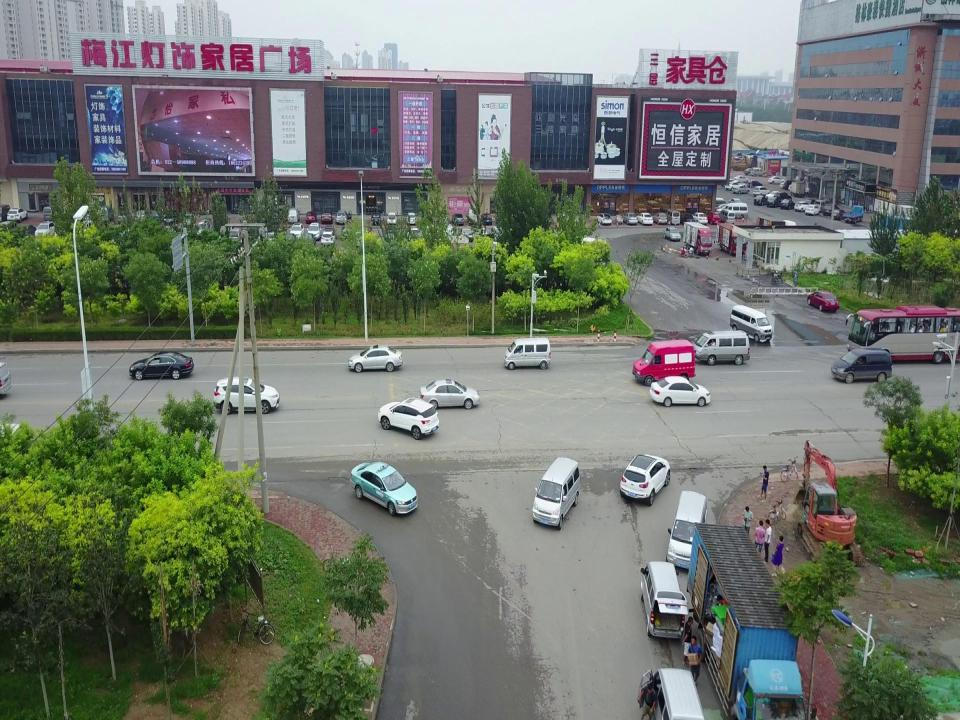bus: (844, 305, 960, 364)
car: (349, 460, 421, 517), (618, 452, 672, 507), (377, 395, 441, 440), (213, 376, 281, 415), (649, 374, 711, 406), (419, 378, 481, 410), (128, 351, 194, 380), (346, 343, 405, 373), (806, 290, 840, 313), (34, 220, 56, 239), (6, 207, 28, 224), (491, 226, 506, 245), (663, 226, 681, 241), (320, 230, 336, 246), (289, 223, 305, 239), (280, 233, 296, 249), (678, 212, 695, 227), (335, 209, 352, 224), (300, 232, 316, 247), (307, 222, 321, 239), (822, 203, 840, 216), (690, 212, 708, 225), (636, 212, 654, 225), (706, 211, 721, 226), (407, 227, 421, 243), (788, 183, 810, 193), (752, 185, 770, 197), (622, 212, 638, 225), (712, 203, 732, 213), (716, 205, 736, 215), (794, 201, 812, 212), (774, 191, 792, 202), (765, 190, 783, 201), (340, 226, 353, 241), (652, 212, 668, 224), (596, 212, 612, 224), (134, 210, 150, 222), (830, 209, 846, 220), (805, 204, 821, 215), (728, 198, 744, 209), (731, 185, 750, 194), (451, 213, 465, 225), (321, 208, 333, 222), (305, 210, 317, 224), (724, 182, 742, 191), (780, 199, 796, 209), (765, 197, 781, 207), (767, 176, 787, 184), (386, 212, 398, 225), (370, 212, 382, 225), (324, 225, 336, 238), (754, 195, 768, 206), (462, 228, 473, 242), (780, 180, 796, 189), (728, 180, 746, 188), (480, 213, 492, 225), (748, 179, 762, 189), (118, 210, 128, 224), (407, 212, 417, 225), (733, 174, 749, 182), (744, 168, 758, 175)
truck: (685, 522, 807, 720), (683, 221, 713, 256), (842, 205, 864, 224), (790, 181, 805, 198)
van: (639, 558, 687, 646), (636, 666, 706, 720), (531, 456, 581, 530), (666, 489, 708, 570), (632, 339, 695, 386), (831, 347, 893, 384), (692, 330, 752, 365), (730, 303, 774, 343), (503, 338, 551, 371), (573, 238, 609, 267), (716, 203, 748, 219), (665, 209, 681, 226), (196, 218, 211, 236), (43, 205, 59, 221), (717, 209, 735, 223), (228, 228, 242, 244), (98, 206, 112, 222), (287, 207, 300, 224), (813, 199, 829, 212), (467, 208, 479, 225), (355, 230, 367, 247), (783, 179, 801, 190), (750, 167, 764, 177)
